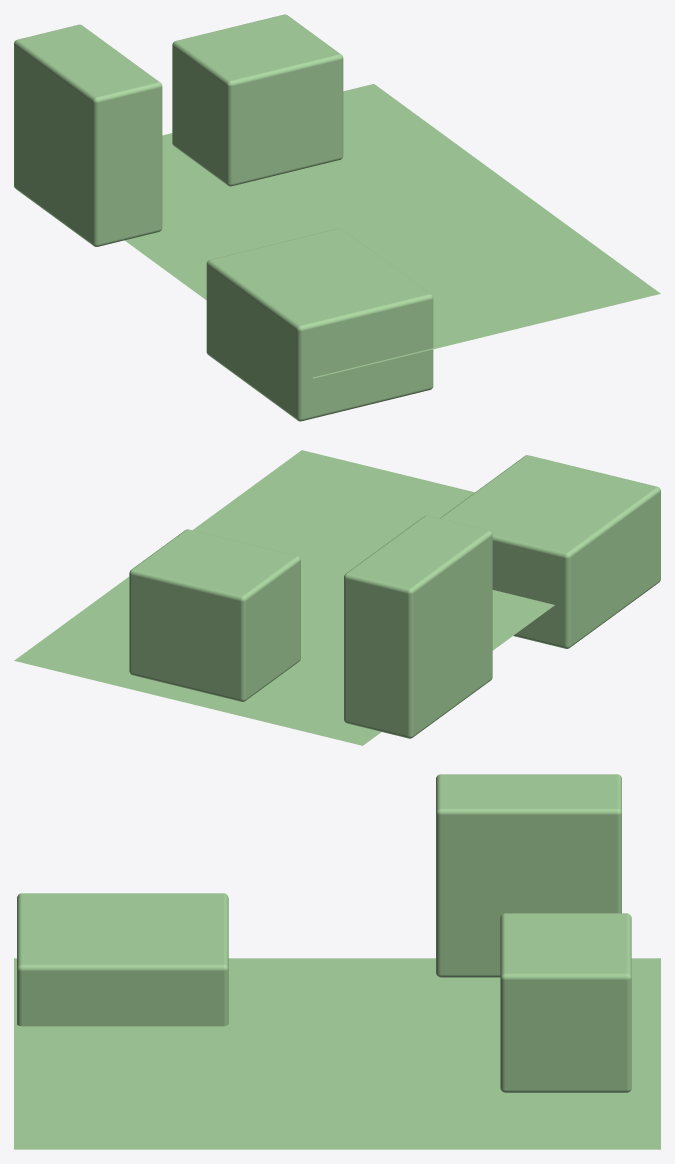
File: gebouweditor.gltf
3 views of the same model, one above another, from view 1: azimuth 30°, elevation 25°; view 2: azimuth 150°, elevation 25°; view 3: azimuth 270°, elevation 25° (orthographic). The views are drawn at different scales.
Parts seen in each view (by area): view 1: Rectangle, Cube 3, Cube 2, Cube; view 2: Rectangle, Cube 2, Cube 3, Cube; view 3: Rectangle, Cube 2, Cube 3, Cube.
Part boxes in pixels (x1,y1,x2,y2): Rectangle: (125, 84, 660, 378); Cube 3: (206, 228, 433, 421); Cube 2: (14, 24, 162, 246); Cube: (172, 14, 343, 186); Rectangle: (14, 450, 554, 745); Cube 2: (344, 515, 492, 738); Cube 3: (440, 455, 660, 648); Cube: (129, 529, 300, 701); Rectangle: (14, 958, 660, 1149); Cube 2: (436, 774, 621, 977); Cube 3: (17, 893, 228, 1026); Cube: (500, 913, 631, 1092).
Size of the model in its own units: 7.74 by 3.76 by 10.15.
